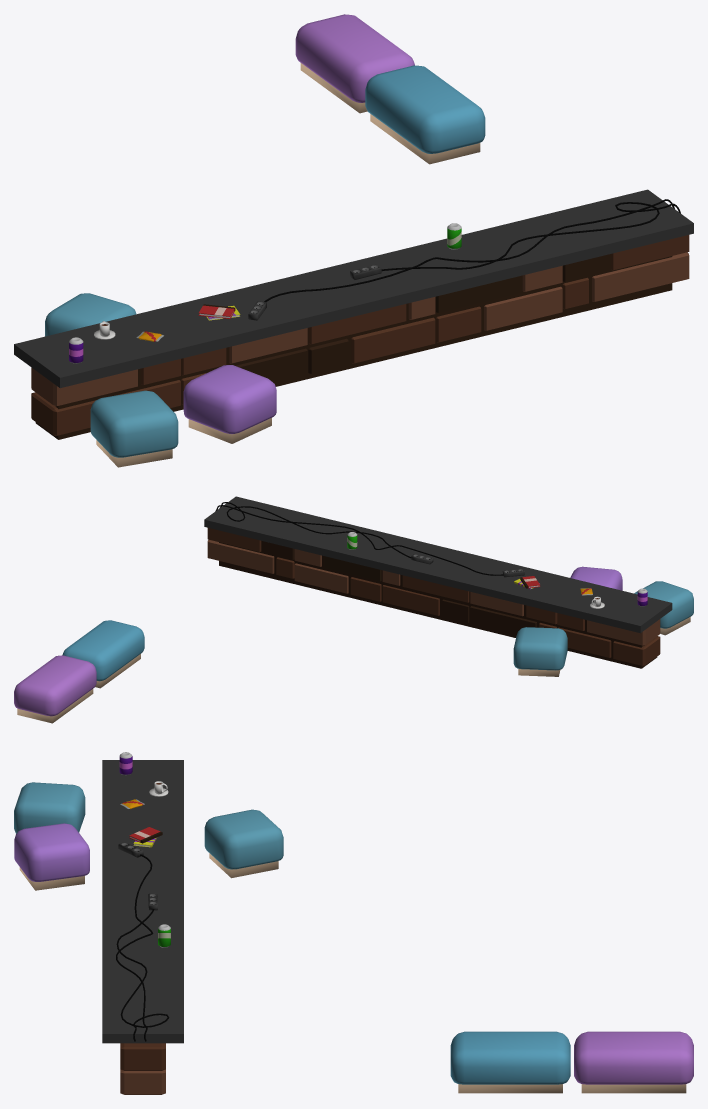
3 views of the same model, one above another, from view 1: azimuth 30°, elevation 25°; view 2: azimuth 150°, elevation 25°; view 3: azimuth 270°, elevation 25° (orthographic). The views are drawn at different scales.
Visible parts, largest first — view 1: T-Room Arcade I; view 2: T-Room Arcade I; view 3: T-Room Arcade I.
Part boxes in pixels (x1,y1,x2,y2): T-Room Arcade I: (14,14,693,467); T-Room Arcade I: (14,496,693,723); T-Room Arcade I: (14,752,693,1094).
Bounding box in the file's own units: 6.43 × 0.912 × 6.67.
1 material, 1 textured.
